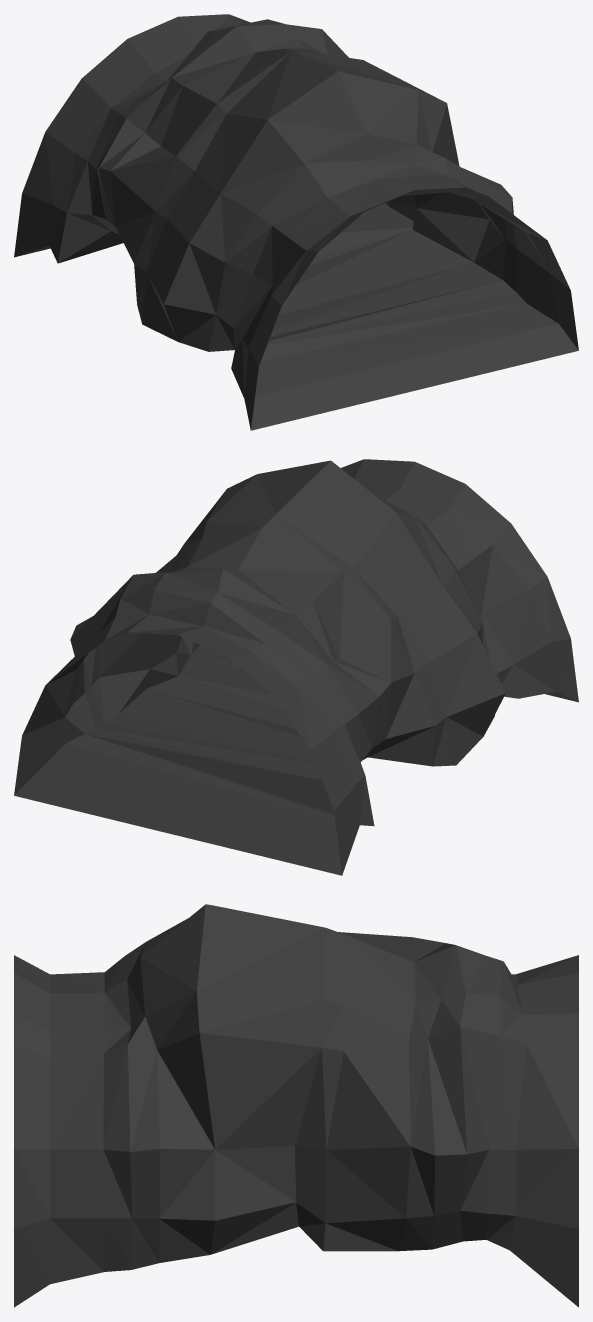
File: Cave_1_LOD_2.fbx
3 views of the same model, one above another, from view 1: azimuth 30°, elevation 25°; view 2: azimuth 150°, elevation 25°; view 3: azimuth 270°, elevation 25° (orthographic). The views are drawn at different scales.
Parts seen in each view (by area): view 1: pCylinder2; view 2: pCylinder2; view 3: pCylinder2.
Boxes of the visible parts, x1,y1,x2,y2 form: pCylinder2: (14,14,578,430); pCylinder2: (14,459,578,875); pCylinder2: (14,904,578,1307).
Size of the model in its own units: 8.43 by 6.25 by 10.32.
